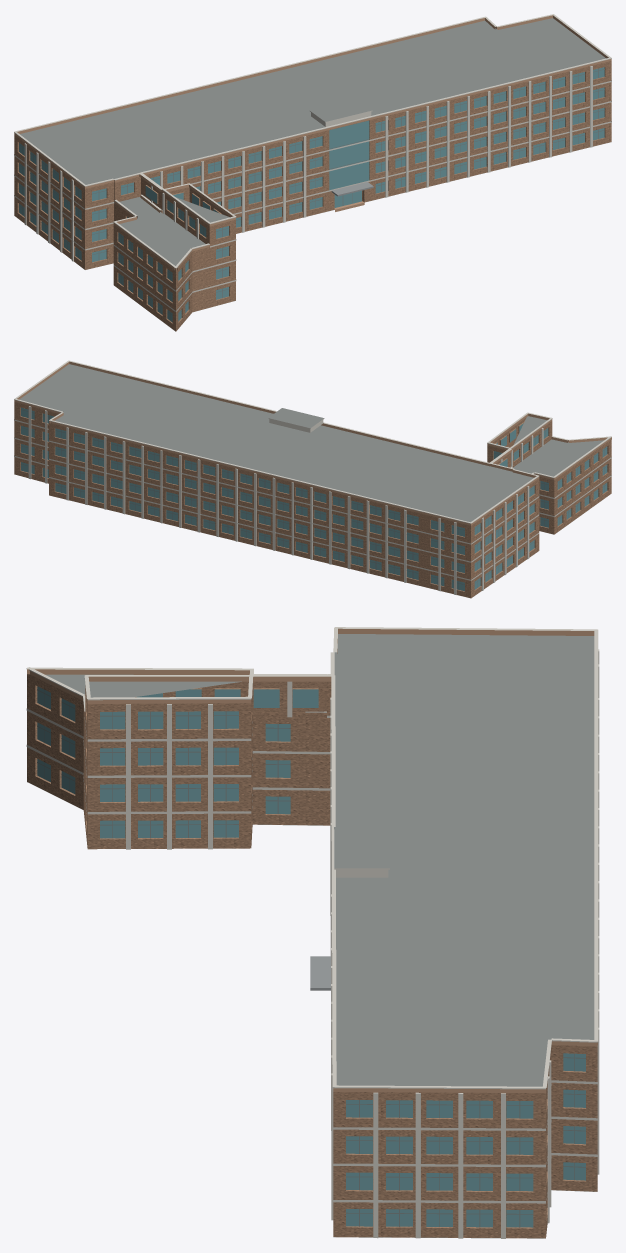
The picture shows the model from 3 angles, top to bottom: view 1: azimuth 30°, elevation 25°; view 2: azimuth 150°, elevation 25°; view 3: azimuth 270°, elevation 25°; orthographic projection. The views are drawn at different scales.
Visible parts, largest first — view 1: student__roof, student__wall, student__glass, student__trim, student__parapet, student__frame; view 2: student__roof, student__wall, student__glass, student__trim, student__parapet, student__frame; view 3: student__roof, student__wall, student__glass, student__trim, student__parapet, student__frame.
Boxes of the visible parts, x1,y1,x2,y2 form: student__roof: (17,18,611,326); student__wall: (14,61,611,331); student__glass: (19,67,604,322); student__trim: (14,14,611,311); student__parapet: (14,15,611,270); student__frame: (19,68,604,320); student__roof: (18,364,603,596); student__wall: (14,402,611,598); student__glass: (21,407,607,591); student__trim: (14,360,611,594); student__parapet: (14,361,611,525); student__frame: (21,409,607,589); student__roof: (27,634,597,1238); student__wall: (27,674,597,1238); student__glass: (37,686,585,1227); student__trim: (26,627,599,1238); student__parapet: (27,628,597,1093); student__frame: (37,689,585,1227).
Bounding box in the file's own units: 98.17 × 16.3 × 51.47.
Materials: 9 (1 with a texture image).
